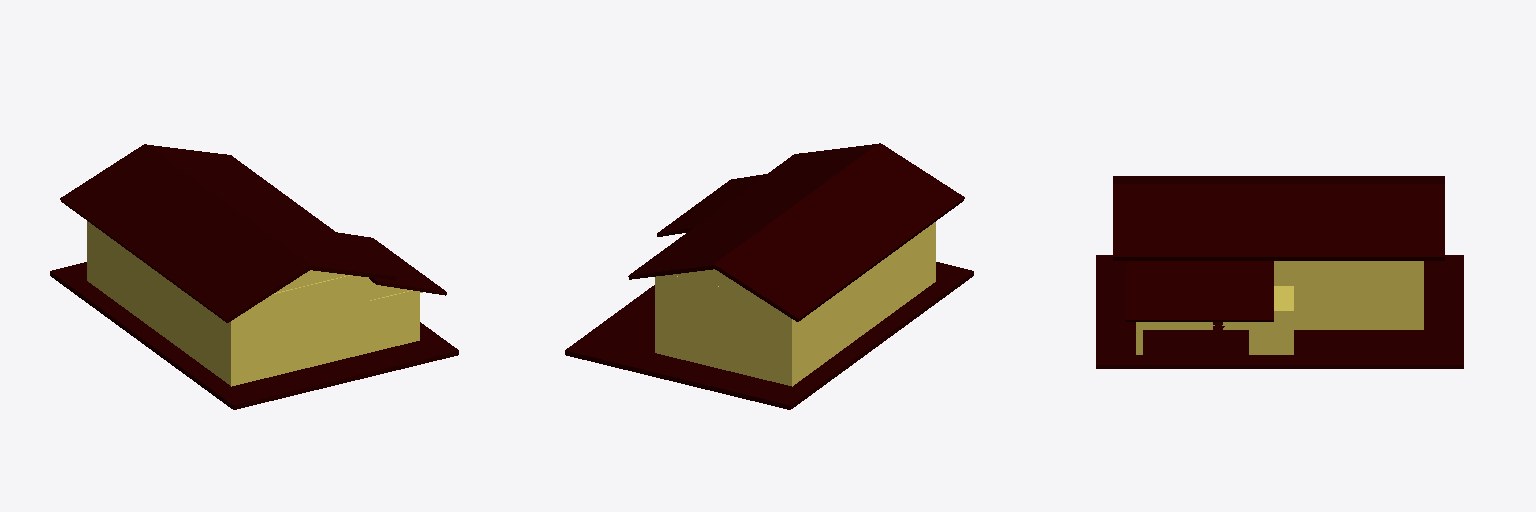
The model's file is sportcenter.obj.
The picture shows the model from 3 angles: view 1: azimuth 30°, elevation 25°; view 2: azimuth 150°, elevation 25°; view 3: azimuth 270°, elevation 25°; orthographic projection.
Parts seen in each view (by area): view 1: pCube7, pCube1, pCube12, pCube8, pCube25, pCube10, pCube11, pCube17; view 2: pCube7, pCube12, pCube2, pCube8, pCube25, pCube11, pCube18; view 3: pCube8, pCube12, pCube45, pCube11, pCube7, pCube14.
Part boxes in pixels (x1,y1,x2,y2): pCube7: (60,144,312,322); pCube1: (226,275,368,386); pCube12: (50,262,458,409); pCube8: (148,145,396,280); pCube25: (93,225,225,381); pCube10: (369,290,419,352); pCube11: (337,232,446,295); pCube17: (276,270,347,292); pCube7: (712,143,964,321); pCube12: (565,262,973,409); pCube2: (655,275,797,386); pCube8: (628,144,876,279); pCube25: (798,225,930,381); pCube11: (657,174,766,236); pCube18: (673,269,755,295); pCube8: (1113,184,1444,260); pCube12: (1096,255,1463,368); pCube45: (1143,261,1418,329); pCube11: (1126,261,1273,321); pCube7: (1113,176,1444,183); pCube14: (1255,286,1293,354).
Bounding box in the file's own units: 98.66 × 48.7 × 137.